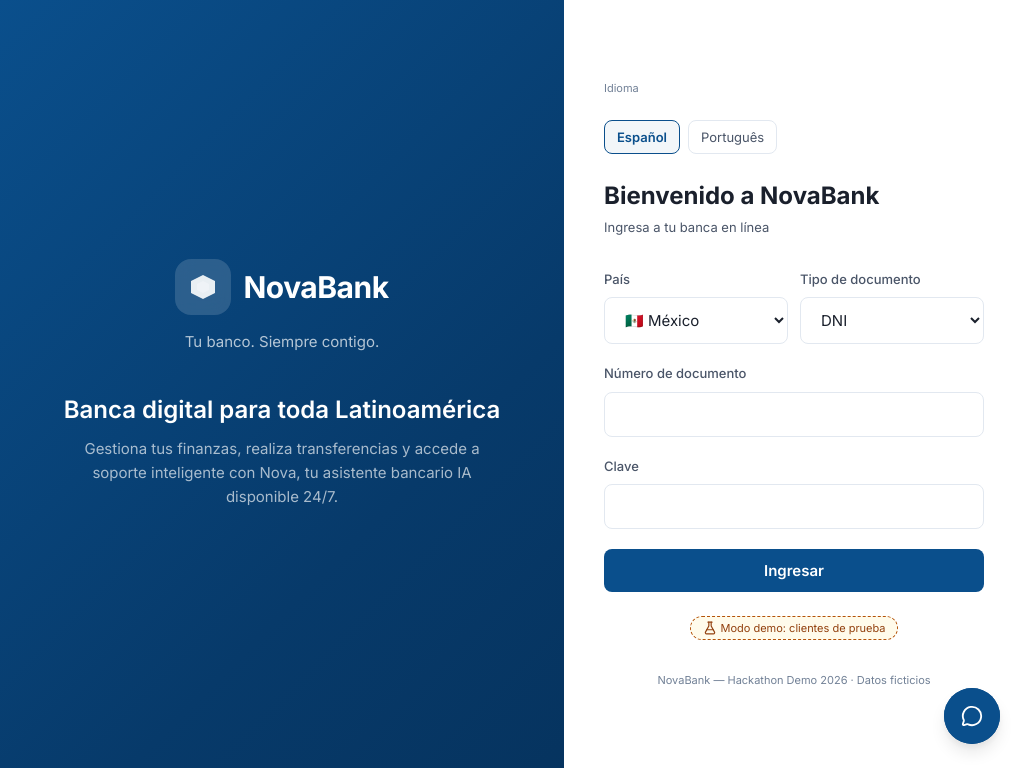
Test: Login: document + password, then the SMS code › keeps Portuguese through the login
This screenshot has width=1024, height=768.
Click the button "Português".
click(733, 137)  # box [688,120,777,154]
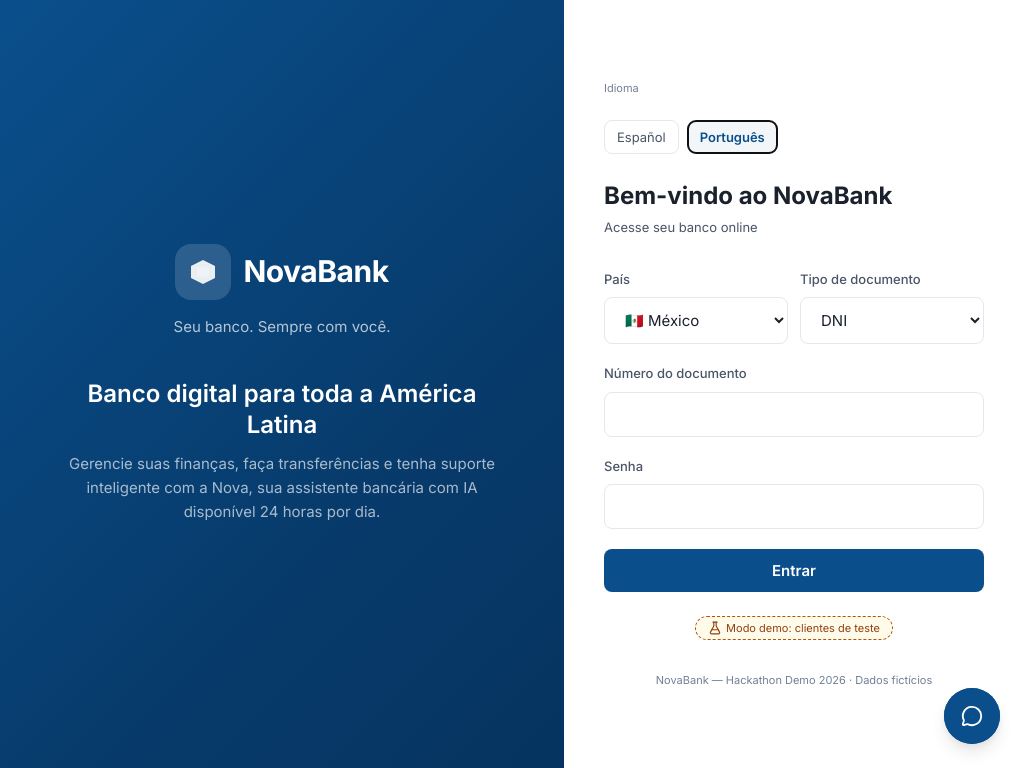
Now the heading "Bem-vindo ao NovaBank" is shown, box [604,181,892,210]
Type "30123456" into the field labelled "Número do documento".
click(794, 414); type("30123456")  # box [604,392,984,436]
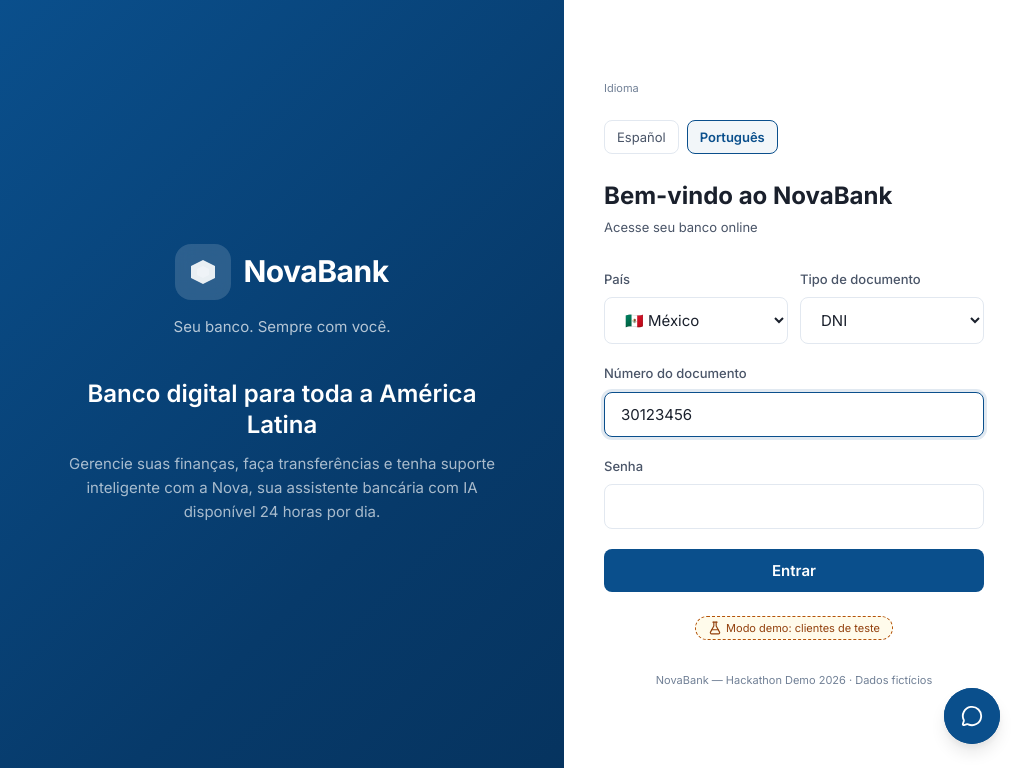
Type "Nova2026" into the password field labelled "Senha".
click(794, 506); type("Nova2026")  # box [604,484,984,529]
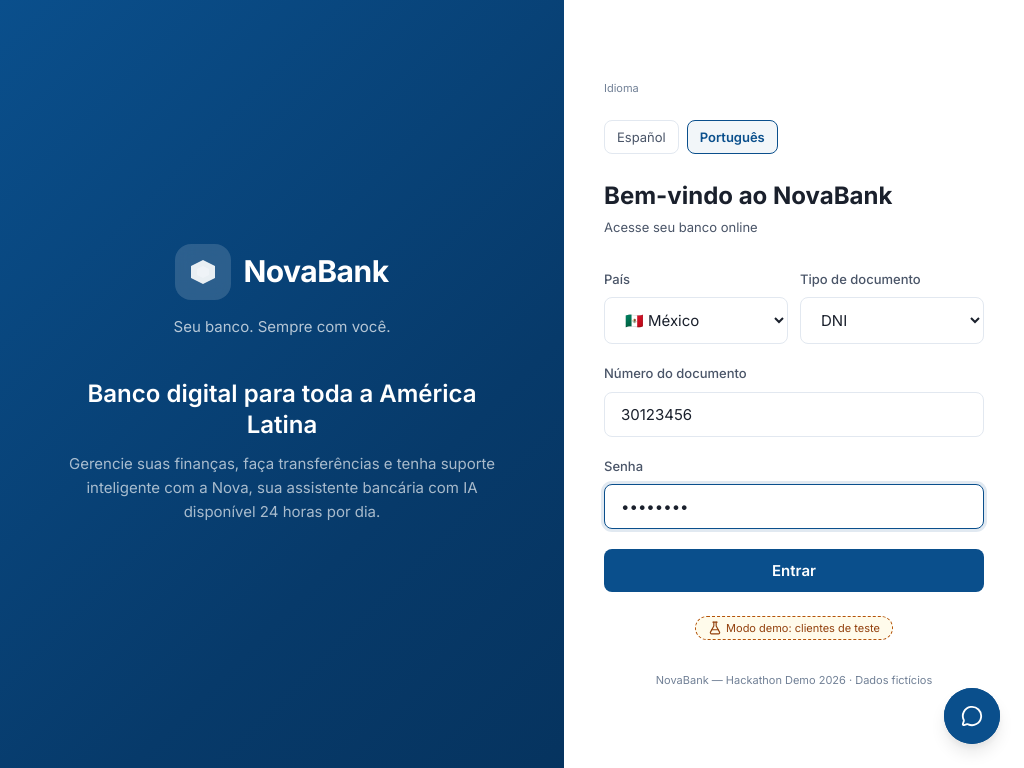
Click the button "Entrar".
click(794, 570)  # box [604,549,984,592]
(page scrolled)
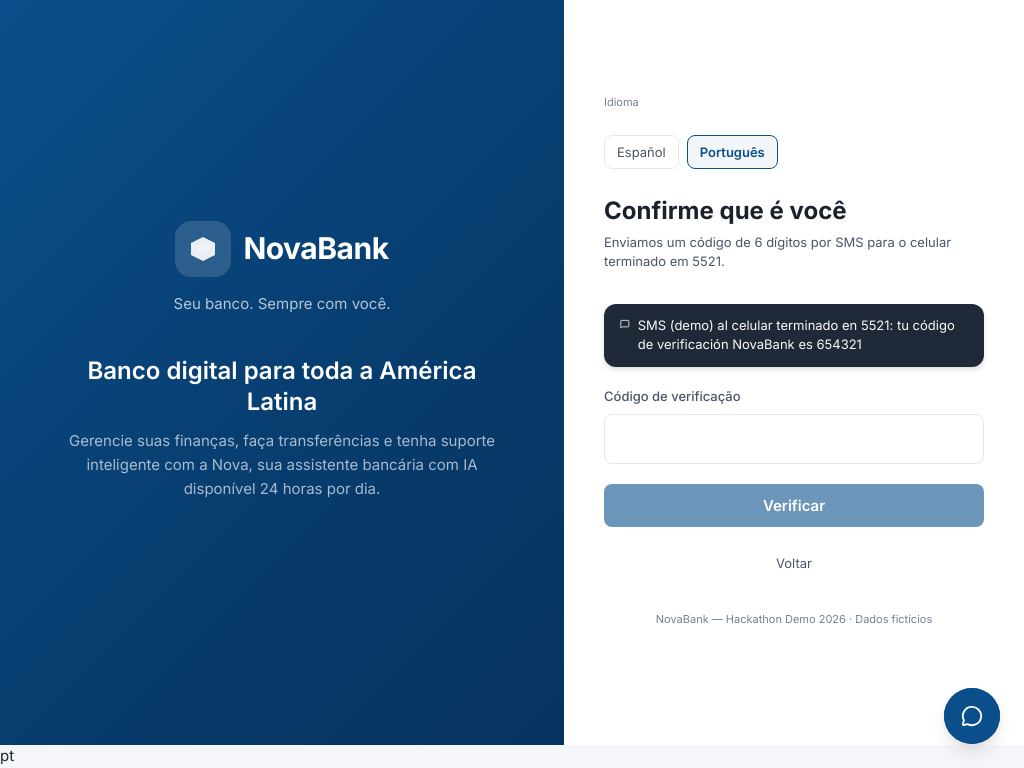
Now the text with test id "selected-language" reads "pt", box [0,746,14,765]
Now the heading "Confirme que é você" is shown, box [604,196,847,225]
